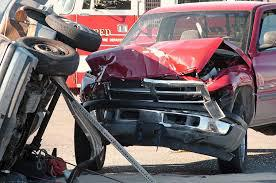bonnet-dent: (90, 33, 236, 82)
fender-dent: (218, 58, 257, 99)
front-bumper-dent: (102, 75, 203, 132)
